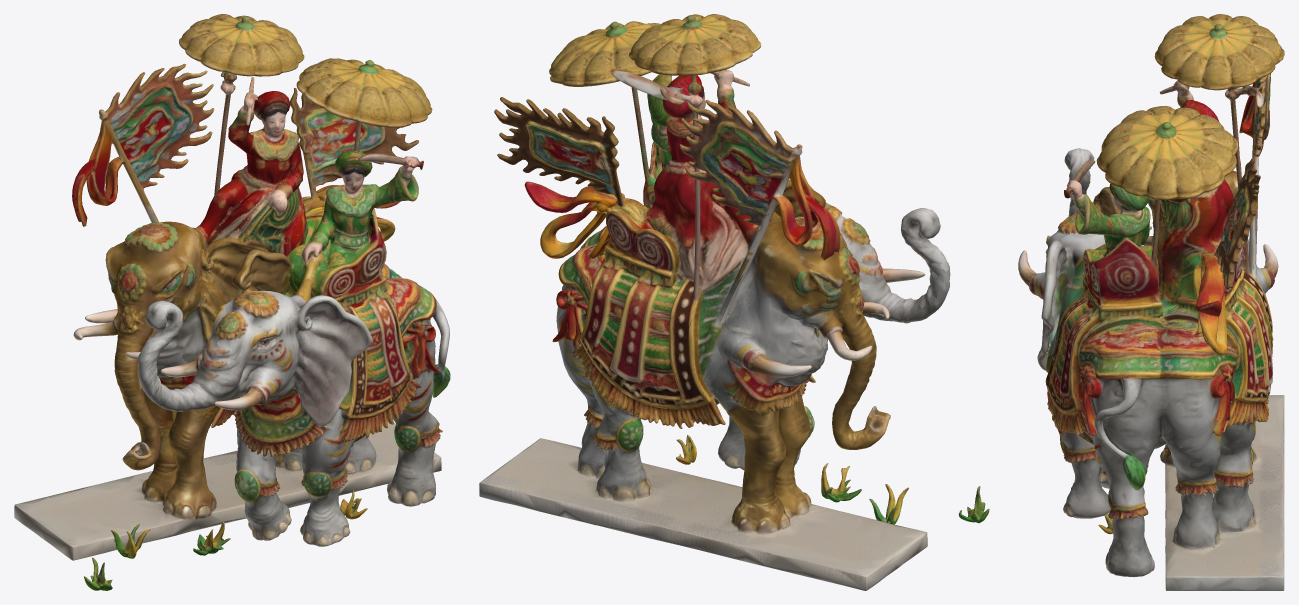
Rendered from Meshy_AI_Hai_Bà_Trưng_cưỡ_0527102043_texture.fbx.
The picture shows the model from 3 angles, left to right: view 1: azimuth 30°, elevation 25°; view 2: azimuth 150°, elevation 25°; view 3: azimuth 270°, elevation 25°; orthographic projection. The views are drawn at different scales.
Visible parts, largest first — view 1: Mesh1.0; view 2: Mesh1.0; view 3: Mesh1.0.
Boxes of the visible parts, bbox=[...] form: Mesh1.0: bbox=[14, 14, 450, 590]; Mesh1.0: bbox=[479, 14, 989, 590]; Mesh1.0: bbox=[1018, 14, 1284, 590].
Size of the model in its own units: 169 by 191 by 95.57.
1 material, 1 textured.
